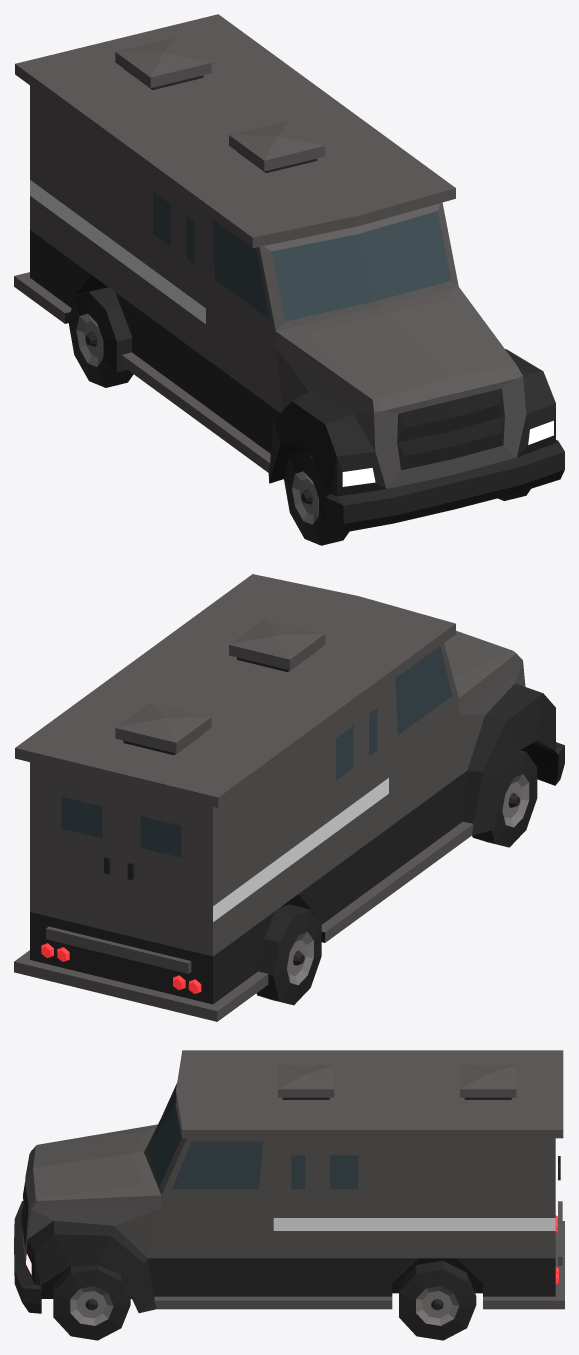
Rendered from vehicles_armored-truck.fbx.
3 renders of one model, top to bottom at view 1: azimuth 30°, elevation 25°; view 2: azimuth 150°, elevation 25°; view 3: azimuth 270°, elevation 25°, orthographic. The views are drawn at different scales.
Visible parts, largest first — view 1: armored_truck_base, armored_truck_wheel_BR, armored_truck_wheel_FR; view 2: armored_truck_base, armored_truck_wheel_BR, armored_truck_wheel_FR; view 3: armored_truck_base, armored_truck_wheel_BL, armored_truck_wheel_FL.
Part boxes in pixels (x1,y1,x2,y2): armored_truck_base: (14,14,564,533); armored_truck_wheel_BR: (68,287,133,387); armored_truck_wheel_FR: (284,450,348,545); armored_truck_base: (14,574,564,1021); armored_truck_wheel_BR: (256,904,321,1005); armored_truck_wheel_FR: (472,750,537,847); armored_truck_base: (14,1050,564,1313); armored_truck_wheel_BL: (399,1260,476,1340); armored_truck_wheel_FL: (53,1265,130,1340).
Size of the model in its own units: 78.16 by 90.74 by 200.
